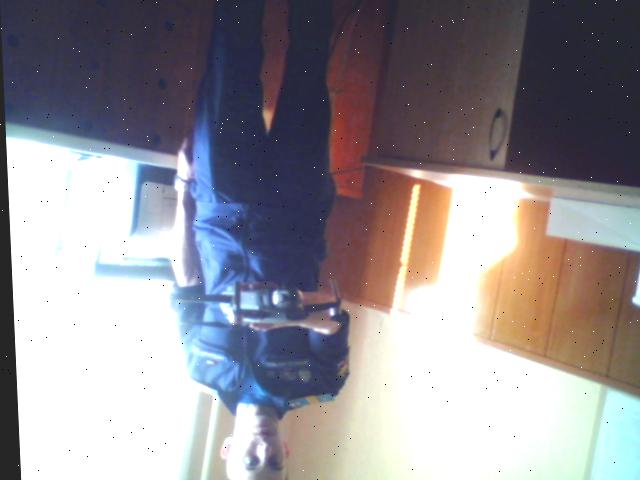drone: (144, 270, 356, 346)
